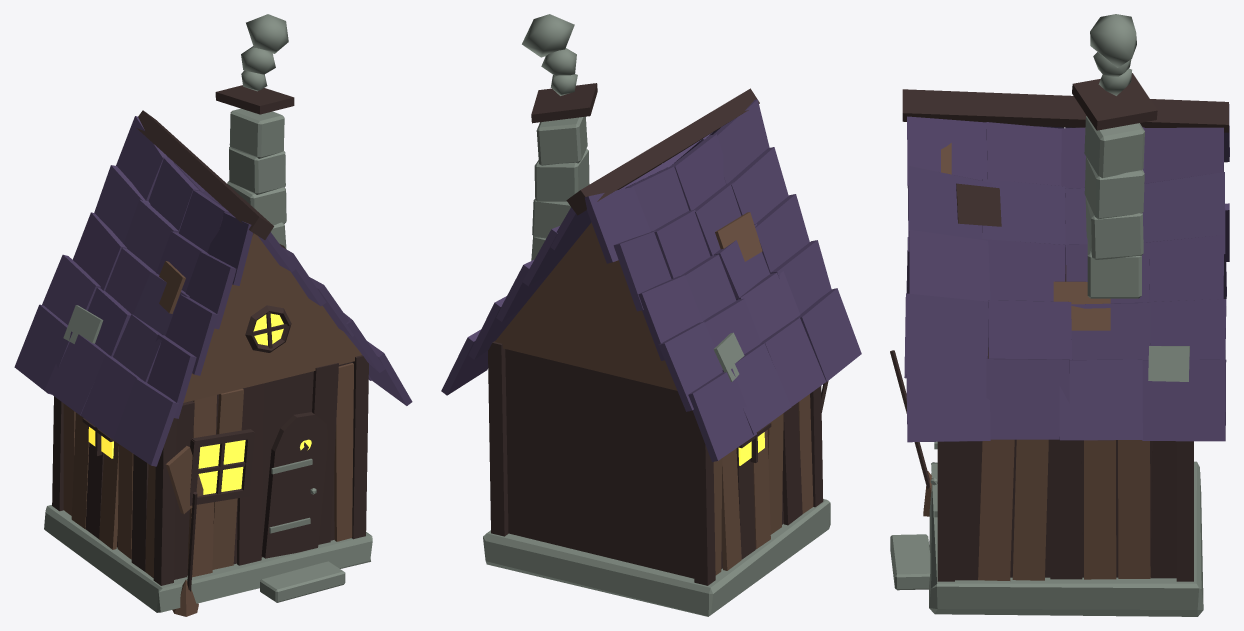
The model's file is witch_hut.glb.
The picture shows the model from 3 angles, left to right: view 1: azimuth 30°, elevation 25°; view 2: azimuth 150°, elevation 25°; view 3: azimuth 270°, elevation 25°; orthographic projection. The views are drawn at different scales.
Visible parts, largest first — view 1: witch_hut; view 2: witch_hut; view 3: witch_hut.
Boxes of the visible parts, bbox=[...] form: witch_hut: bbox=[14, 14, 412, 616]; witch_hut: bbox=[441, 14, 861, 616]; witch_hut: bbox=[890, 14, 1229, 616].
Bounding box in the file's own units: 3.31 × 6.01 × 3.13.
